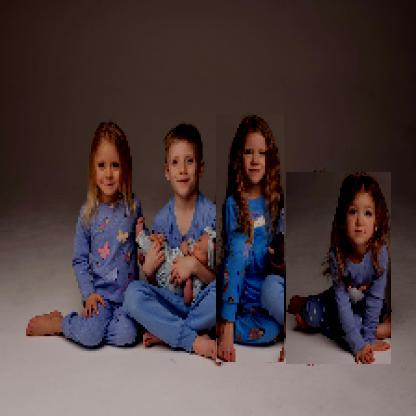child: (121, 123, 244, 367), (25, 122, 146, 351), (287, 173, 393, 366), (217, 115, 286, 364)
